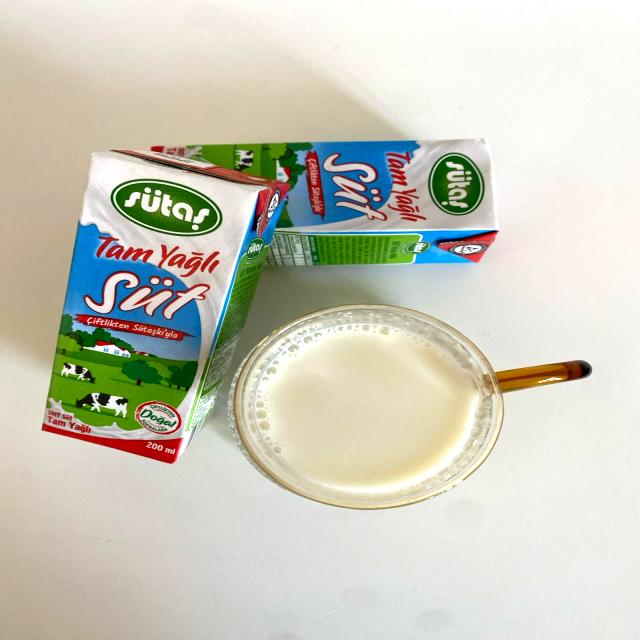milk: (24, 175, 279, 448), (231, 316, 541, 513)
